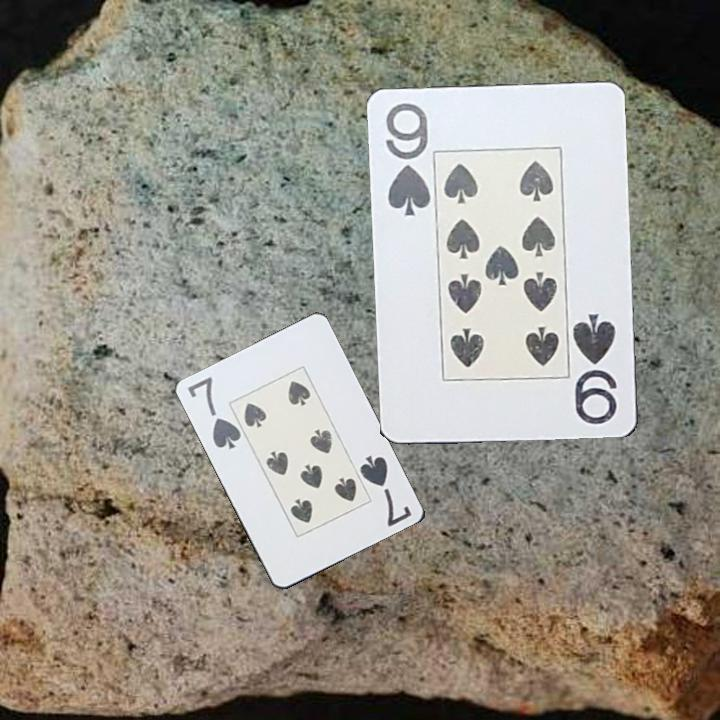7s: (184, 373, 244, 453), (356, 451, 415, 530)
9s: (382, 99, 434, 219), (572, 310, 620, 428)
